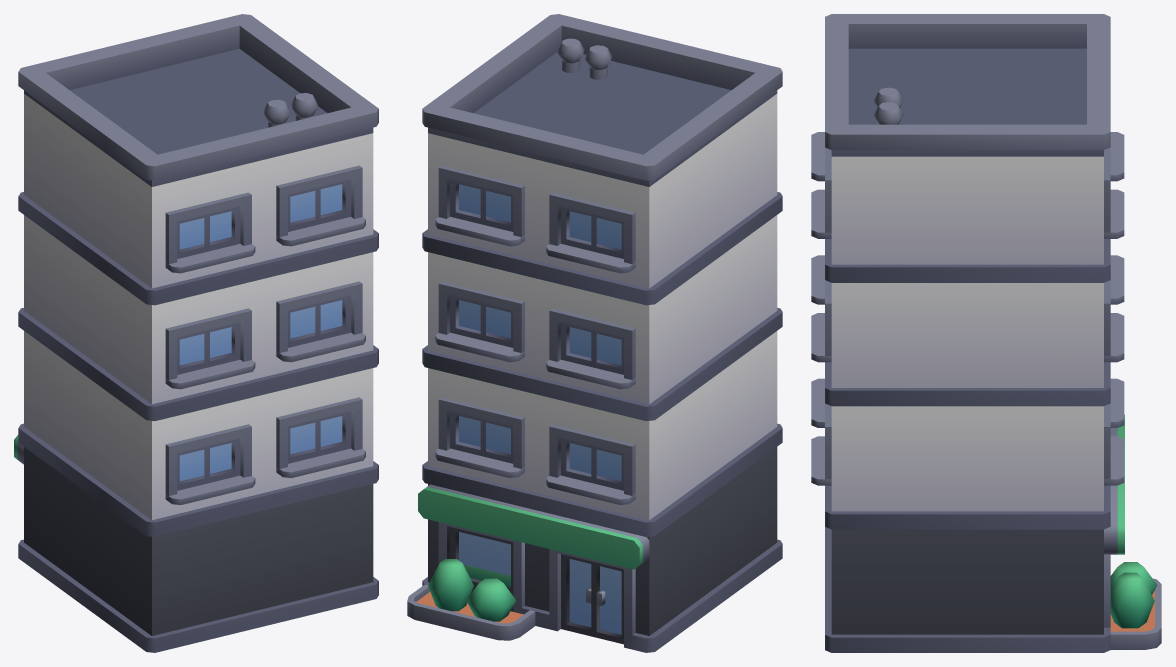
3 renders of one model, left to right at view 1: azimuth 30°, elevation 25°; view 2: azimuth 150°, elevation 25°; view 3: azimuth 270°, elevation 25°, orthographic. The views are drawn at different scales.
Parts seen in each view (by area): view 1: building-f; view 2: building-f; view 3: building-f.
Boxes of the visible parts, bbox=[...] form: building-f: bbox=[14, 14, 378, 652]; building-f: bbox=[407, 14, 782, 652]; building-f: bbox=[811, 14, 1161, 652].
Size of the model in its own units: 7.8 by 15.71 by 9.56.
1 material, 1 textured.
